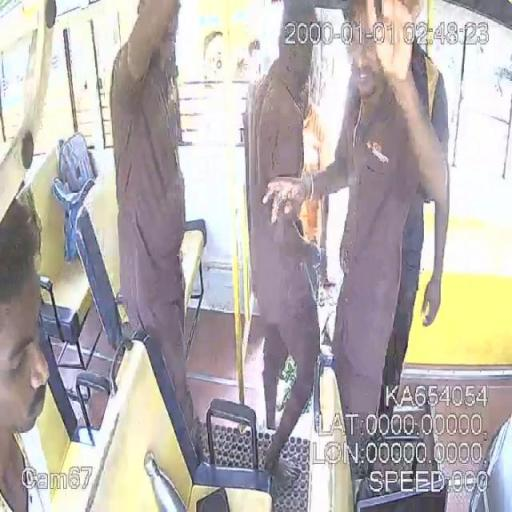persona: (262, 1, 452, 504), (242, 0, 330, 478), (108, 0, 194, 442), (0, 186, 52, 511)
